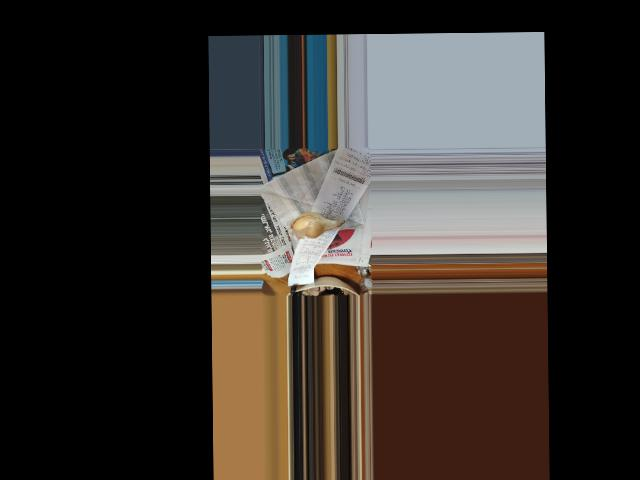onion: (292, 210, 335, 239)
